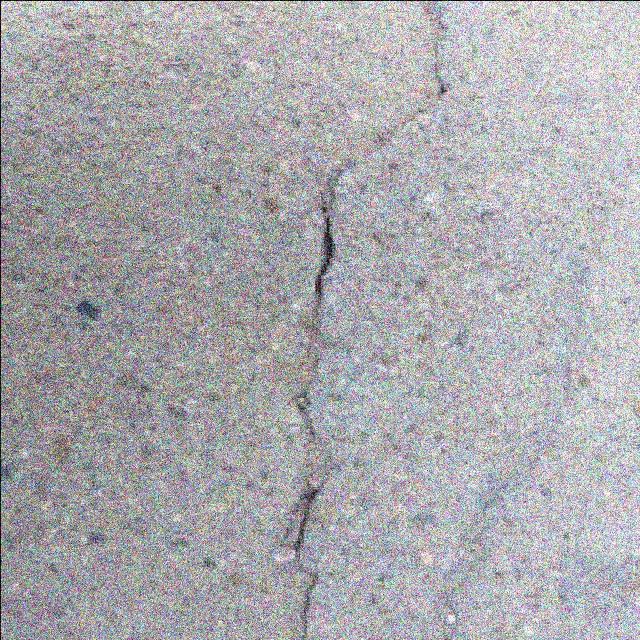SurfaceCrack: (226, 6, 470, 640)
